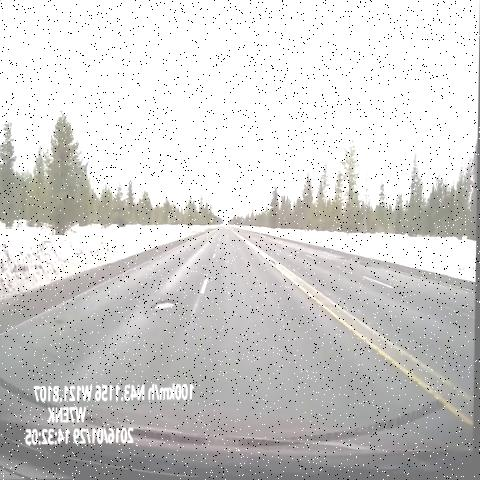pothole: (337, 247, 374, 283), (149, 290, 183, 324), (264, 247, 285, 279)
